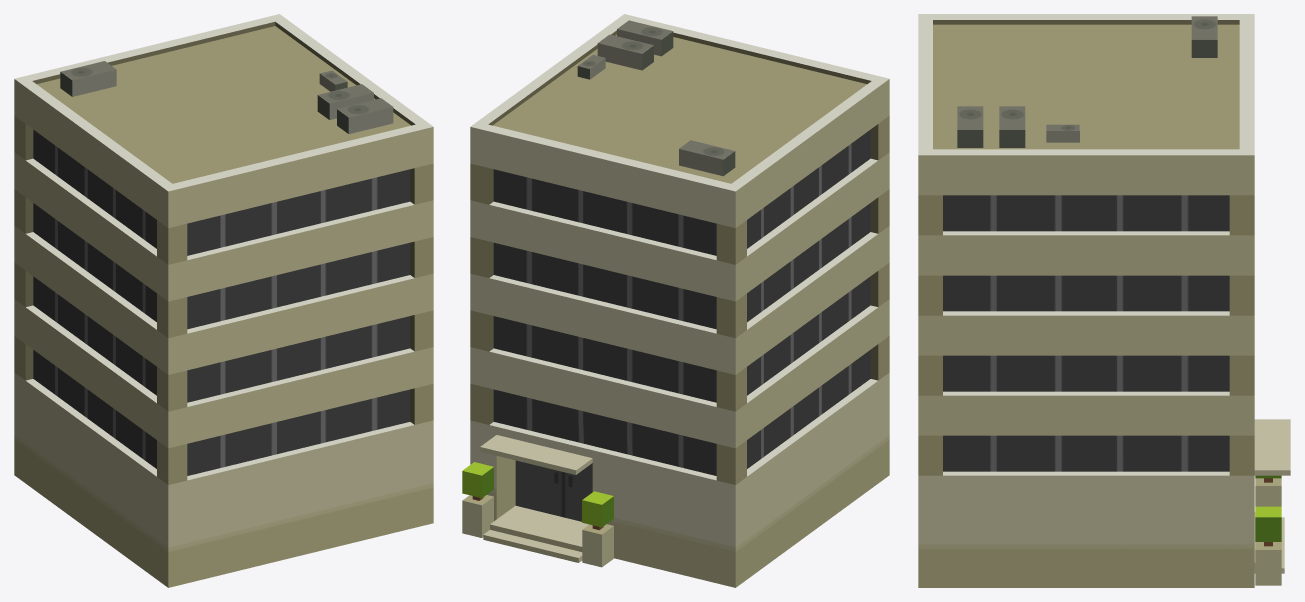
File: office_medium_mesh.fbx
The picture shows the model from 3 angles, left to right: view 1: azimuth 30°, elevation 25°; view 2: azimuth 150°, elevation 25°; view 3: azimuth 270°, elevation 25°; orthographic projection. The views are drawn at different scales.
Parts seen in each view (by area): view 1: office_medium_mesh; view 2: office_medium_mesh; view 3: office_medium_mesh.
Boxes of the visible parts, x1=… form: office_medium_mesh: x1=14, y1=14, x2=433, y2=587; office_medium_mesh: x1=462, y1=14, x2=889, y2=587; office_medium_mesh: x1=918, y1=14, x2=1290, y2=587.
Bounding box in the file's own units: 13.62 × 20.04 × 15.17.
